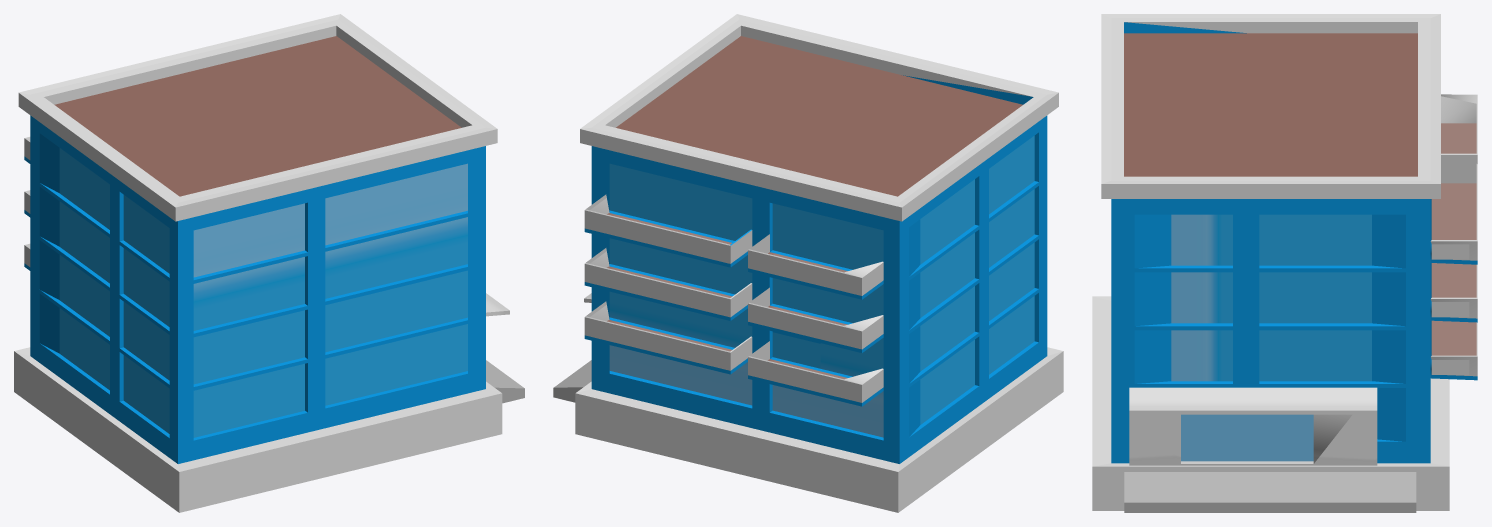
Rendered from BlueBuilding4x5x5.fbx.
The picture shows the model from 3 angles, left to right: view 1: azimuth 30°, elevation 25°; view 2: azimuth 150°, elevation 25°; view 3: azimuth 270°, elevation 25°; orthographic projection. The views are drawn at different scales.
Visible parts, largest first — view 1: House; view 2: House; view 3: House.
Part boxes in pixels (x1,y1,x2,y2): House: (14, 14, 524, 512); House: (553, 14, 1063, 512); House: (1092, 14, 1477, 512).
Bounding box in the file's own units: 6.24 × 5 × 5.34.
1 material, 1 textured.
